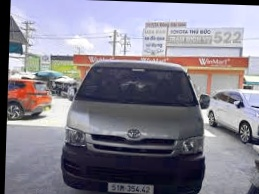Bien-so: (105, 170, 153, 185)
